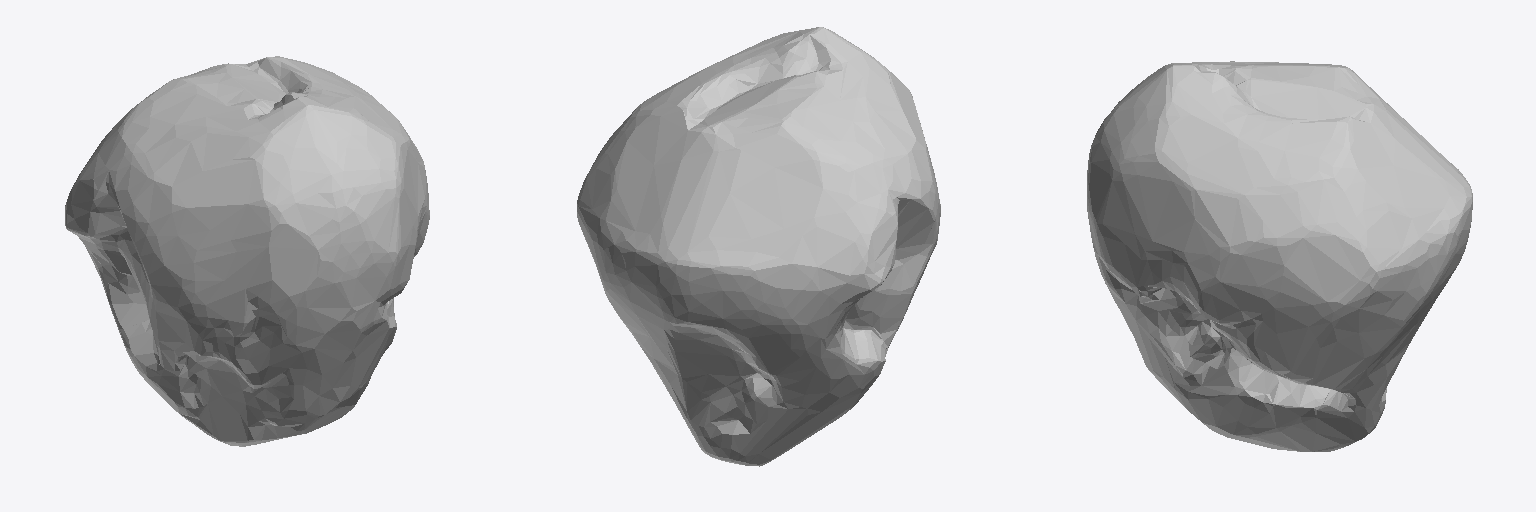
The model's file is rock4.obj.
The picture shows the model from 3 angles: view 1: azimuth 30°, elevation 25°; view 2: azimuth 150°, elevation 25°; view 3: azimuth 270°, elevation 25°; orthographic projection.
Visible parts, largest first — view 1: rock4; view 2: rock4; view 3: rock4.
Boxes of the visible parts, <box> form: rock4: <box>65,56,429,446</box>; rock4: <box>577,27,940,466</box>; rock4: <box>1087,61,1472,451</box>.
Size of the model in its own units: 18 by 21.56 by 19.86.